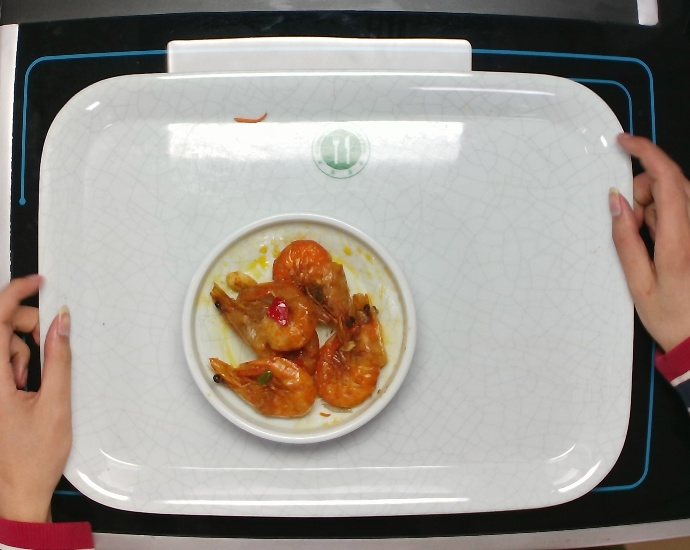JYsf-Xiao_Yuan_Pan: (177, 209, 419, 447)
